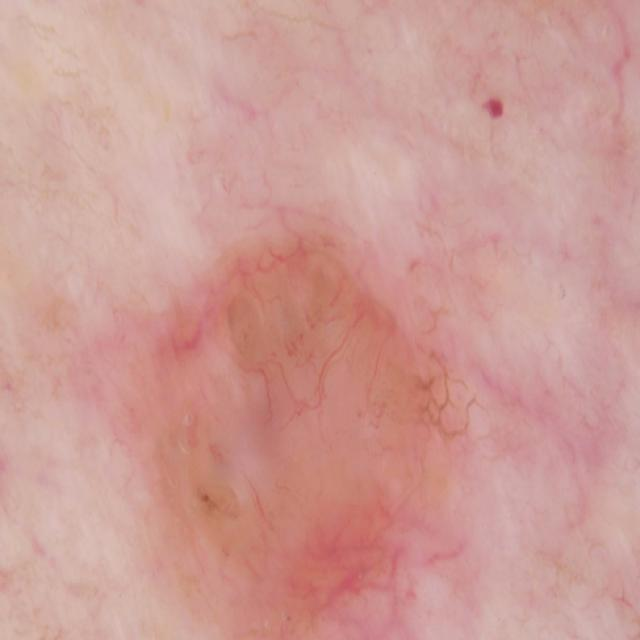Carcinoma: (68, 138, 525, 640)
